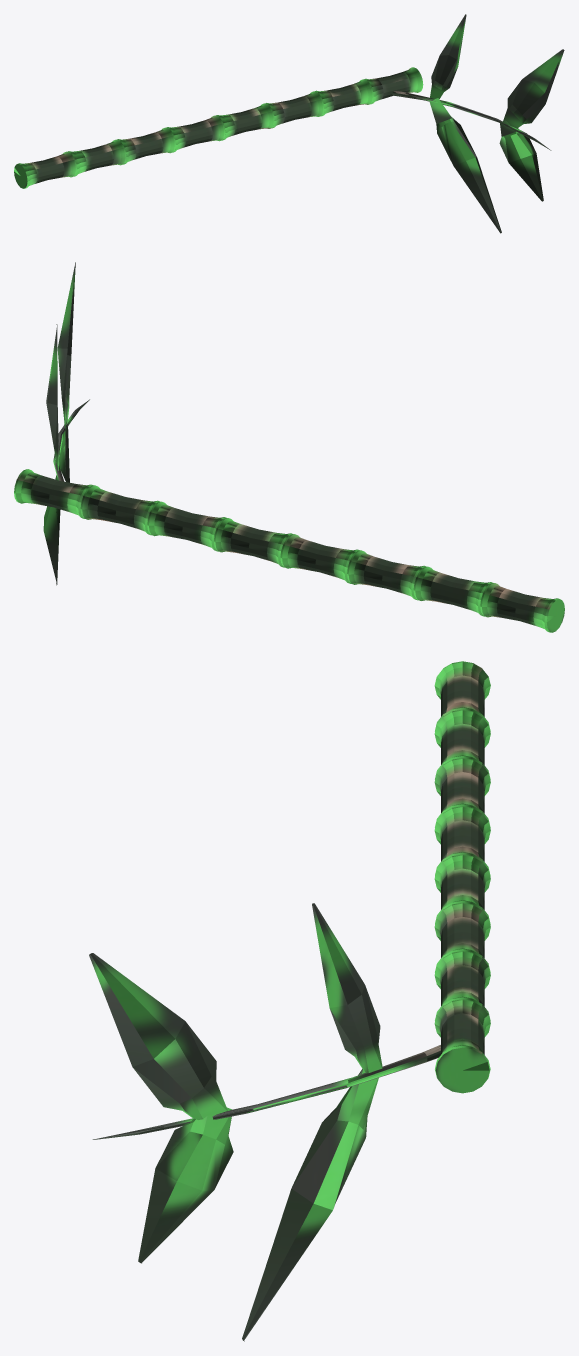
The model's file is bamboofbx.fbx.
3 views of the same model, one above another, from view 1: azimuth 30°, elevation 25°; view 2: azimuth 150°, elevation 25°; view 3: azimuth 270°, elevation 25° (orthographic). The views are drawn at different scales.
Visible parts, largest first — view 1: Plane_4; view 2: Plane_4; view 3: Plane_4.
Boxes of the visible parts, <box> form: Plane_4: <box>14,14,564,233</box>; Plane_4: <box>14,262,564,632</box>; Plane_4: <box>89,661,490,1341</box>.
Size of the model in its own units: 1452 by 649 by 562.
Materials: 1 (1 with a texture image).
